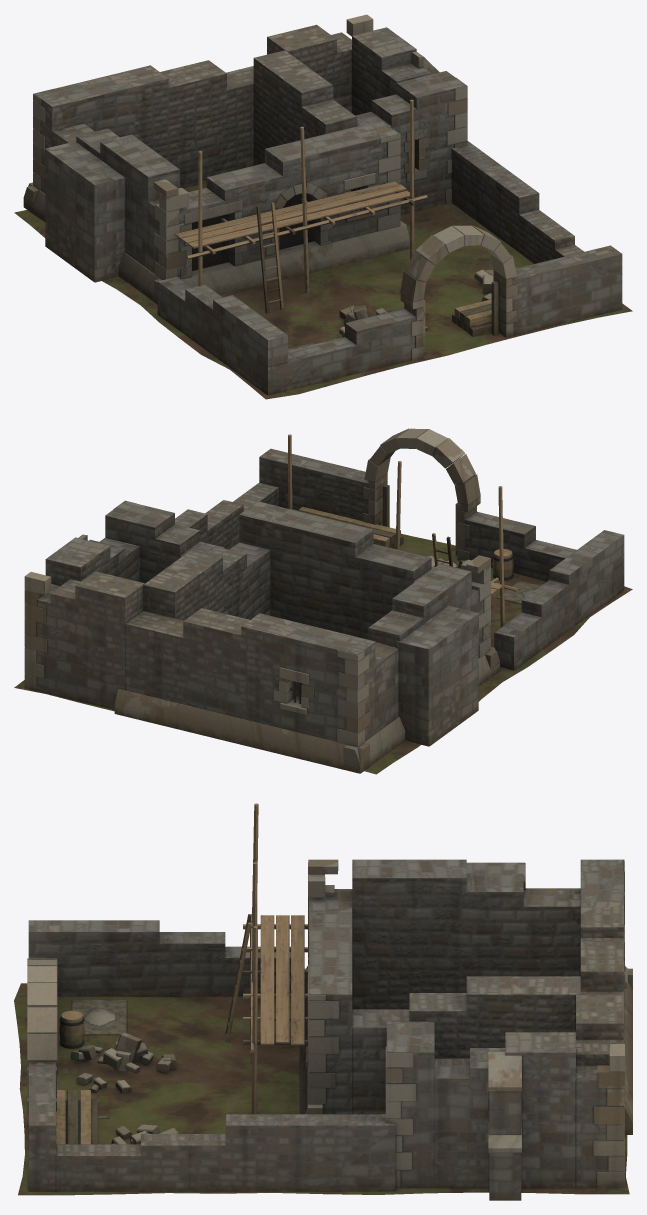
File: mint_build2.glb
The picture shows the model from 3 angles, top to bottom: view 1: azimuth 30°, elevation 25°; view 2: azimuth 150°, elevation 25°; view 3: azimuth 270°, elevation 25°; orthographic projection. The views are drawn at different scales.
Parts seen in each view (by area): view 1: mint_build2_LOD0; view 2: mint_build2_LOD0; view 3: mint_build2_LOD0.
Boxes of the visible parts, box(x1,y1,x2,y2) form: mint_build2_LOD0: box(14, 14, 632, 399); mint_build2_LOD0: box(14, 428, 632, 774); mint_build2_LOD0: box(14, 803, 632, 1200).
Size of what is drawn, in the model's own units: 11.56 by 4.95 by 13.57.
1 material, 1 textured.
